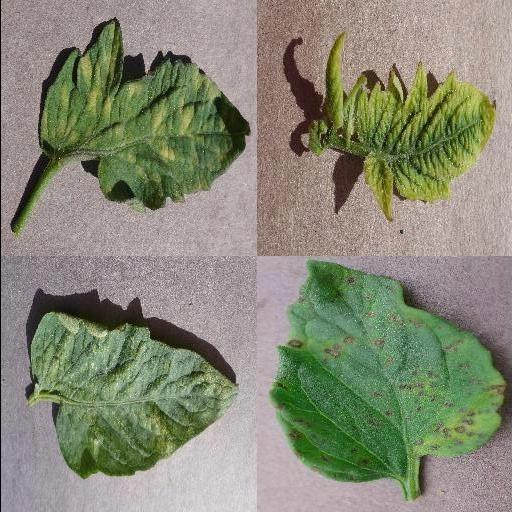Leaf Mold: (37, 20, 251, 212)
Septoria: (271, 260, 507, 484)
Spider Mites: (29, 310, 239, 478)
Yellow Leaf Curl Virus: (355, 63, 495, 225)
